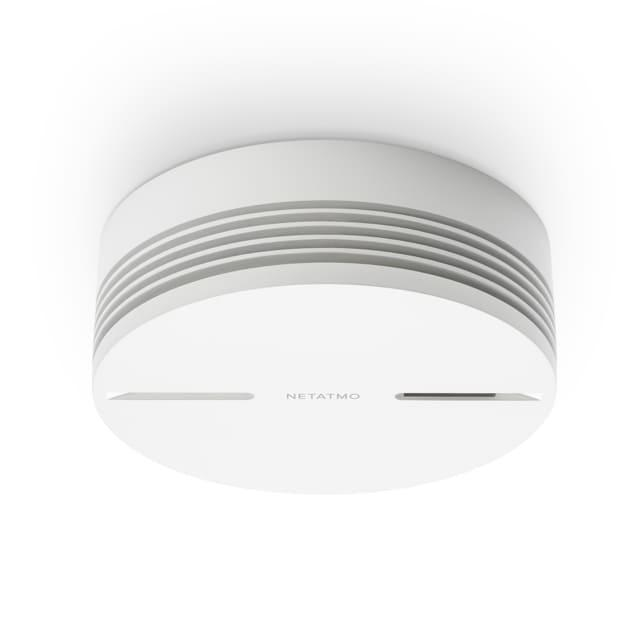Smoke-Detector: (93, 132, 555, 488)
